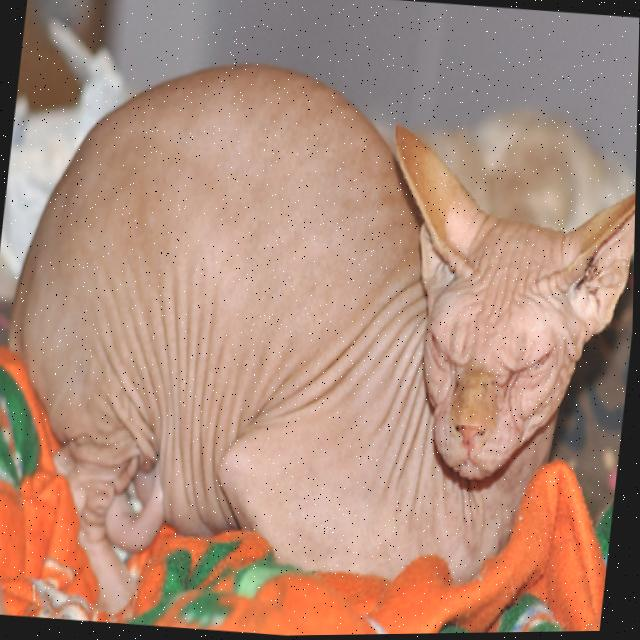Sphynx: (0, 36, 639, 640)
